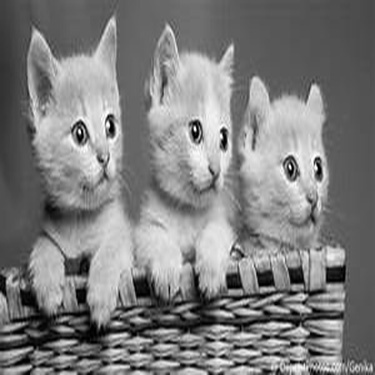cat: (21, 8, 123, 331), (125, 21, 242, 302), (234, 73, 328, 256)
